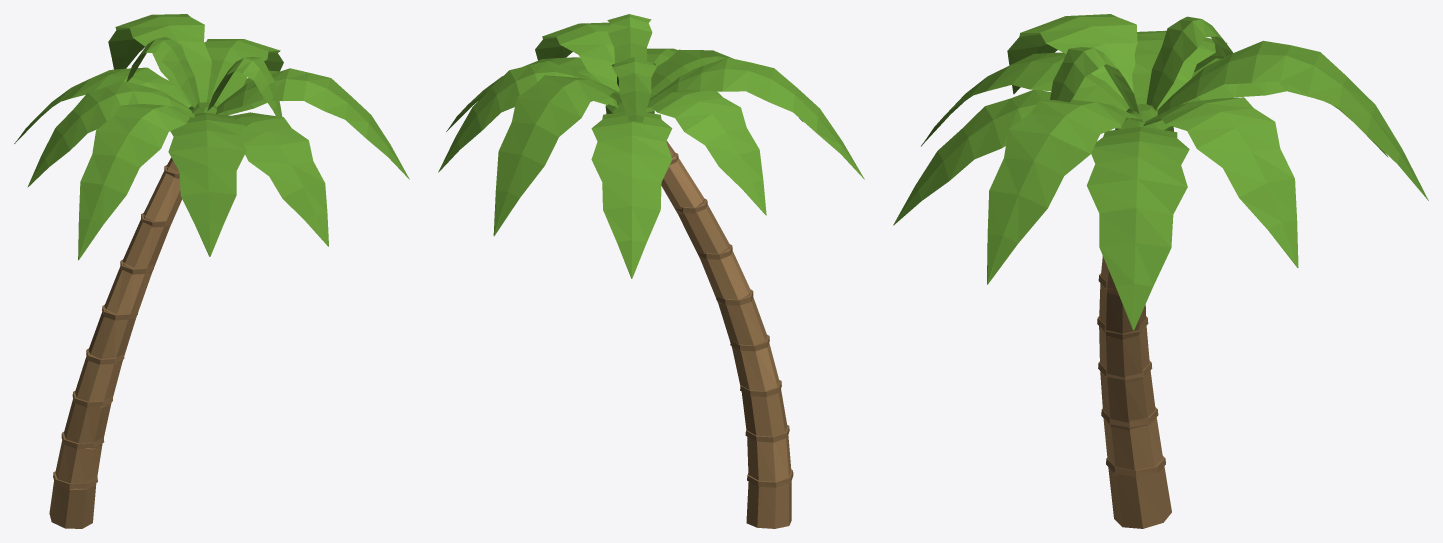
File: 02_curved_palm.glb
3 views of the same model, side by side, from view 1: azimuth 30°, elevation 25°; view 2: azimuth 150°, elevation 25°; view 3: azimuth 270°, elevation 25° (orthographic). The views are drawn at different scales.
Parts seen in each view (by area): view 1: 02_curved_palm; view 2: 02_curved_palm; view 3: 02_curved_palm.
Boxes of the visible parts, left/top/right/bottom form: 02_curved_palm: left=14, top=14, right=409, bottom=528; 02_curved_palm: left=438, top=14, right=864, bottom=528; 02_curved_palm: left=893, top=14, right=1428, bottom=528.
Size of the model in its own units: 3.11 by 3.64 by 3.11.
